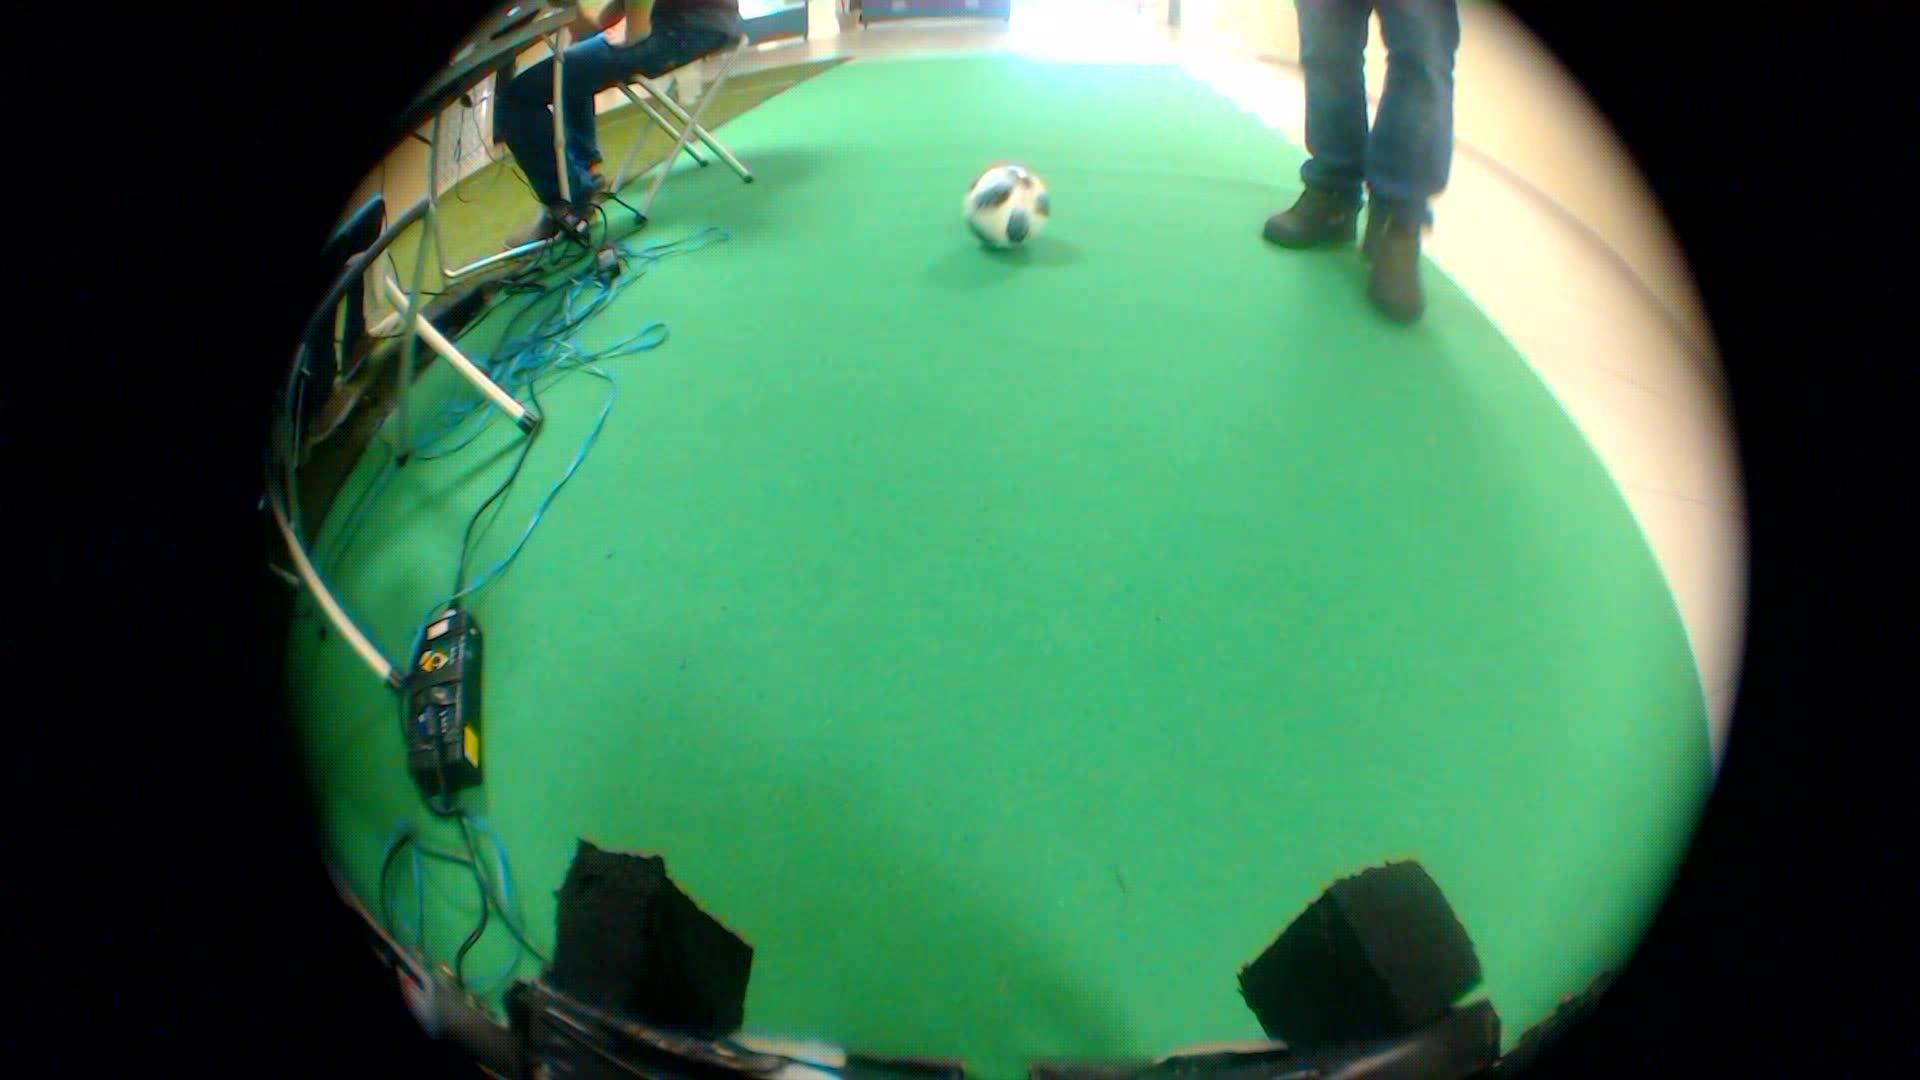ball: (952, 149, 1060, 257)
